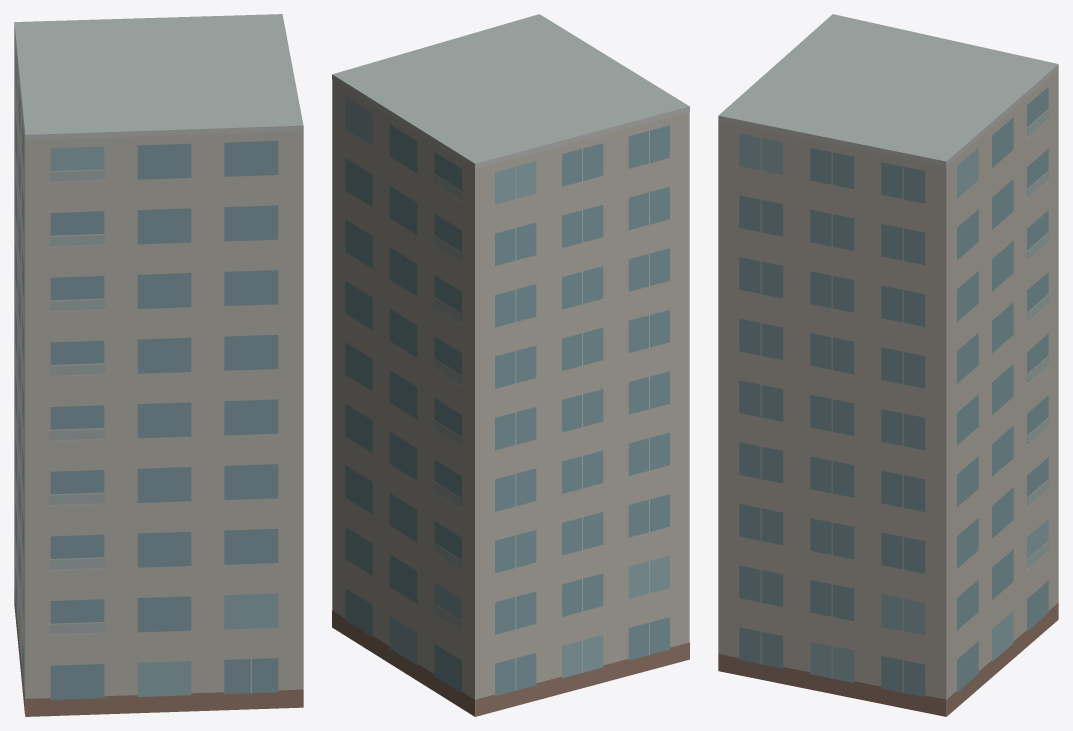
The model's file is survey-upis-33032561.glb.
The picture shows the model from 3 angles, left to right: view 1: azimuth 30°, elevation 25°; view 2: azimuth 150°, elevation 25°; view 3: azimuth 270°, elevation 25°; orthographic projection. The views are drawn at different scales.
Visible parts, largest first — view 1: survey-upis-33032561.tmp; view 2: survey-upis-33032561.tmp; view 3: survey-upis-33032561.tmp.
Part boxes in pixels (left/top/right/bottom): survey-upis-33032561.tmp: left=14, top=14, right=303, bottom=716; survey-upis-33032561.tmp: left=332, top=14, right=689, bottom=716; survey-upis-33032561.tmp: left=718, top=14, right=1058, bottom=716.
Bounding box in the file's own units: 14.54 × 25.5 × 14.18.
